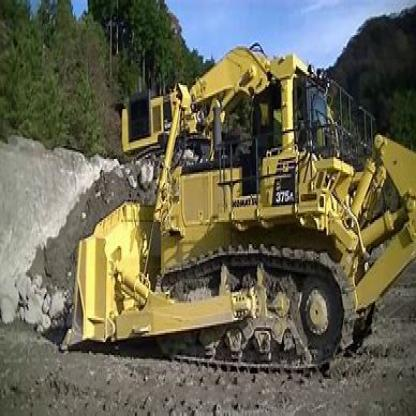bull_dozer/loader/grader: (64, 59, 414, 383)
